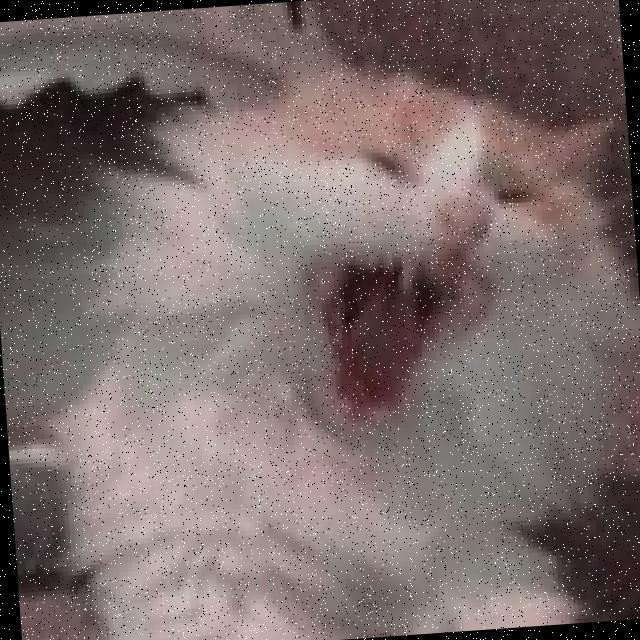Angry: (223, 92, 590, 464)
